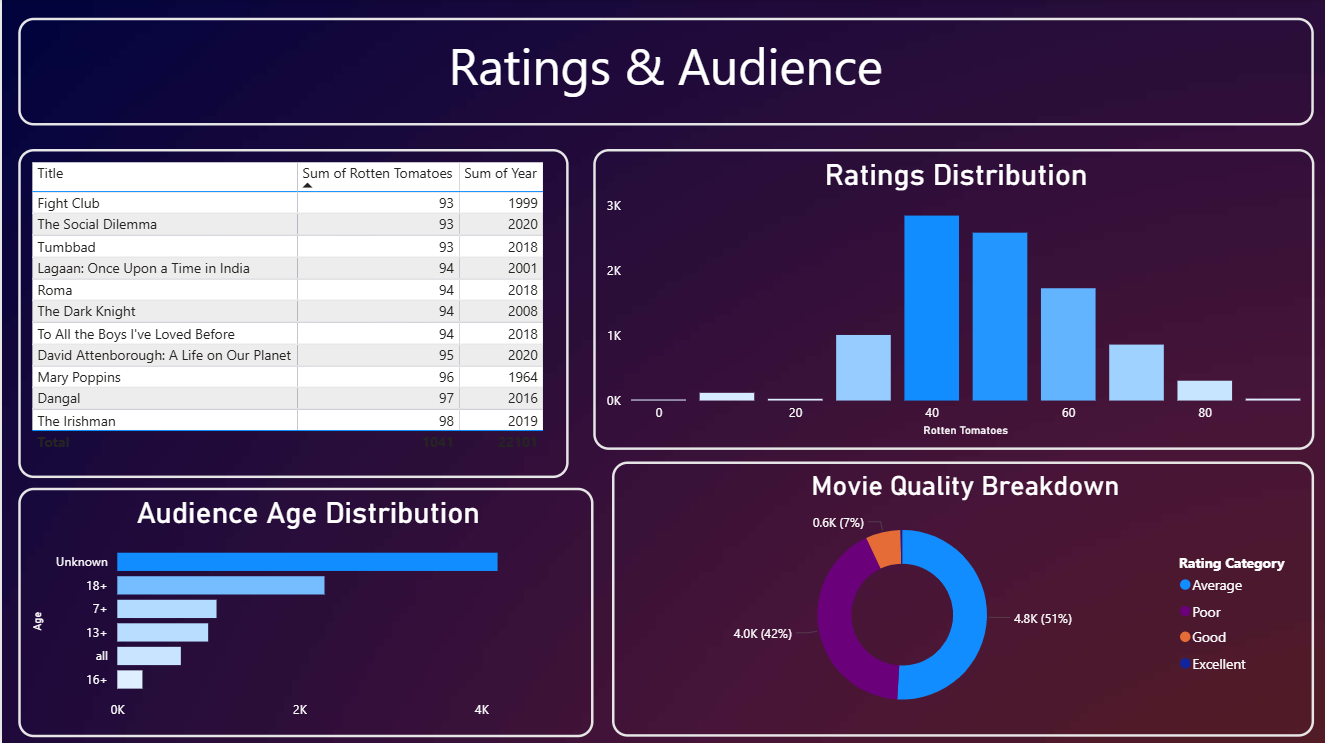

This screenshot's page, from the dashboard's own definition file:
{"tool":"powerbi","page":{"name":"Ratings & Audience","canvas":[1280,720],"ordinal":1},"visuals":[{"type":"clusteredColumnChart","title":"Ratings Distribution","fields":{"Category":["cleaned_ott_dataset.Rotten Tomatoes (bins)"],"Y":["Count(cleaned_ott_dataset.Title)"]},"box":[570.4,144.7,695.7,290.8],"z":0},{"type":"donutChart","title":"Movie Quality Breakdown","fields":{"Category":["cleaned_ott_dataset.Rating_Category"],"Y":["Count(cleaned_ott_dataset.Title)"]},"box":[588.5,446.6,677.6,265.7],"z":1000},{"type":"clusteredBarChart","title":"Audience Age Distribution","fields":{"Category":["cleaned_ott_dataset.Age"],"Y":["CountNonNull(cleaned_ott_dataset.Title)"]},"box":[15.3,471.7,555.1,240.7],"z":1001},{"type":"tableEx","fields":{"Values":["cleaned_ott_dataset.Title","Sum(cleaned_ott_dataset.Rotten Tomatoes)","Sum(cleaned_ott_dataset.Year)"]},"box":[15.3,144.7,531.5,317.2],"z":1002},{"type":"textbox","box":[15.3,18.1,1250.8,104.3],"z":1003}]}

Visuals, with their boxes in screenshot pixels (x1, y1, x2, y2), scaled from the page's 1280x720 canvas onto the 1325x743 screenshot:
"Ratings Distribution" clusteredColumnChart: 590,149,1311,449
"Movie Quality Breakdown" donutChart: 609,461,1311,735
"Audience Age Distribution" clusteredBarChart: 16,487,590,735
tableEx - cleaned_ott_dataset.Title x Sum(cleaned_ott_dataset.Rotten Tomatoes): 16,149,566,477
textbox: 16,19,1311,126
